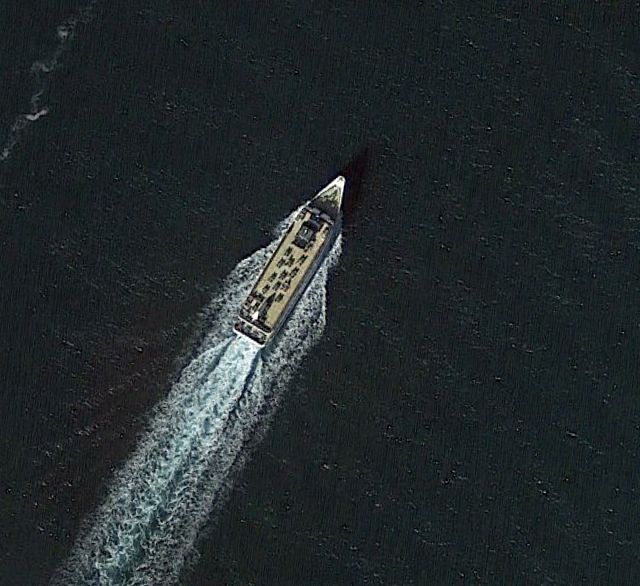boat: (231, 174, 349, 350)
